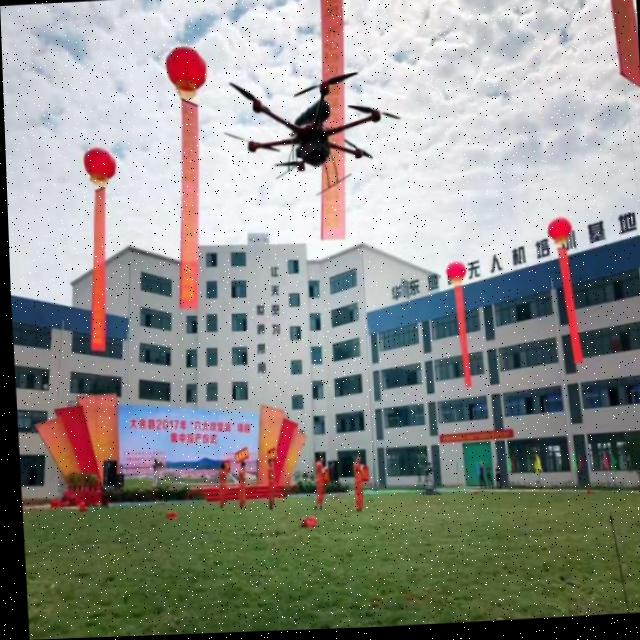drones: (218, 49, 405, 209)
